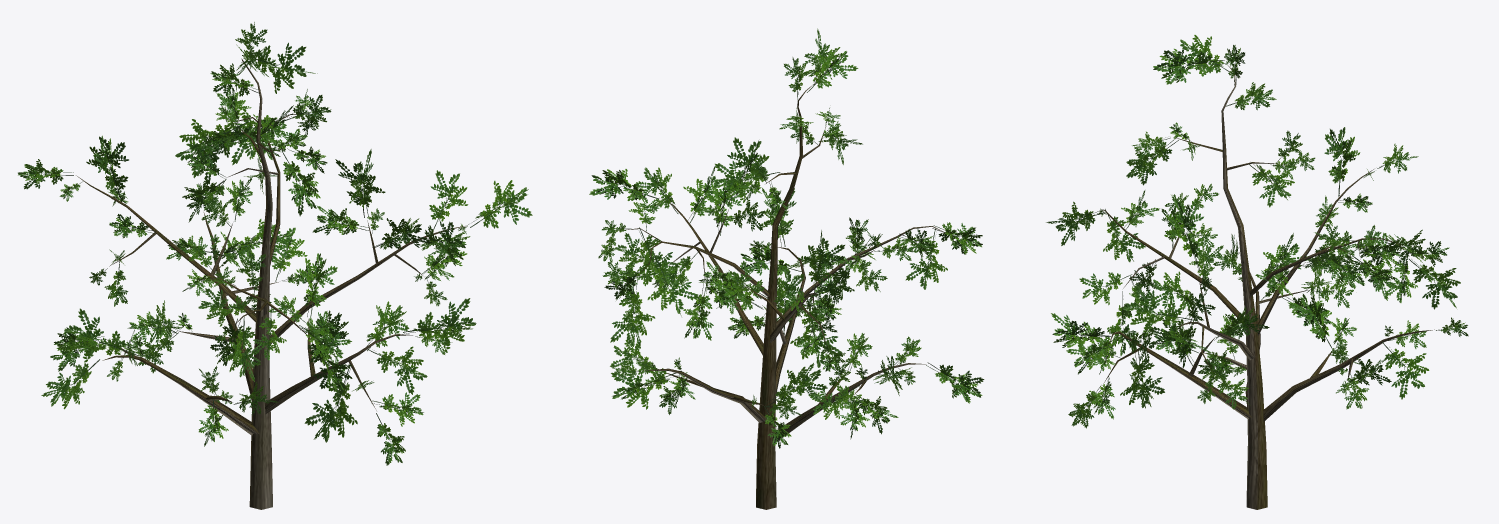
Rendered from tree-ash.glb.
The picture shows the model from 3 angles, left to right: view 1: azimuth 30°, elevation 25°; view 2: azimuth 150°, elevation 25°; view 3: azimuth 270°, elevation 25°; orthographic projection. The views are drawn at different scales.
Parts seen in each view (by area): view 1: Tree; view 2: Tree; view 3: Tree.
Part boxes in pixels (x1,y1,x2,y2): Tree: (18,22,532,509); Tree: (589,28,984,509); Tree: (1046,35,1468,509).
Size of the model in its own units: 0.9812 by 1 by 0.8871.
2 materials, 2 textured.
